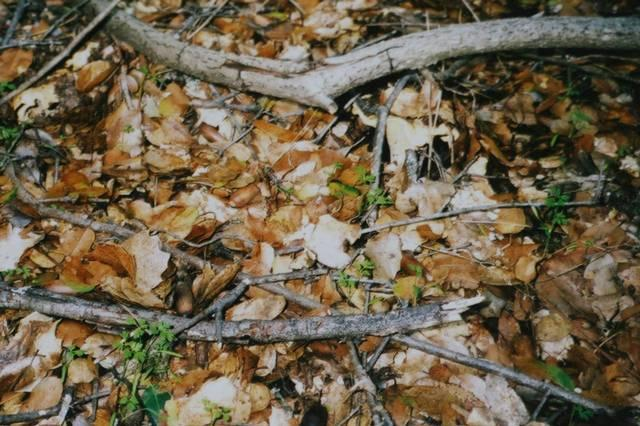edible_mushroom: (377, 78, 437, 167)
